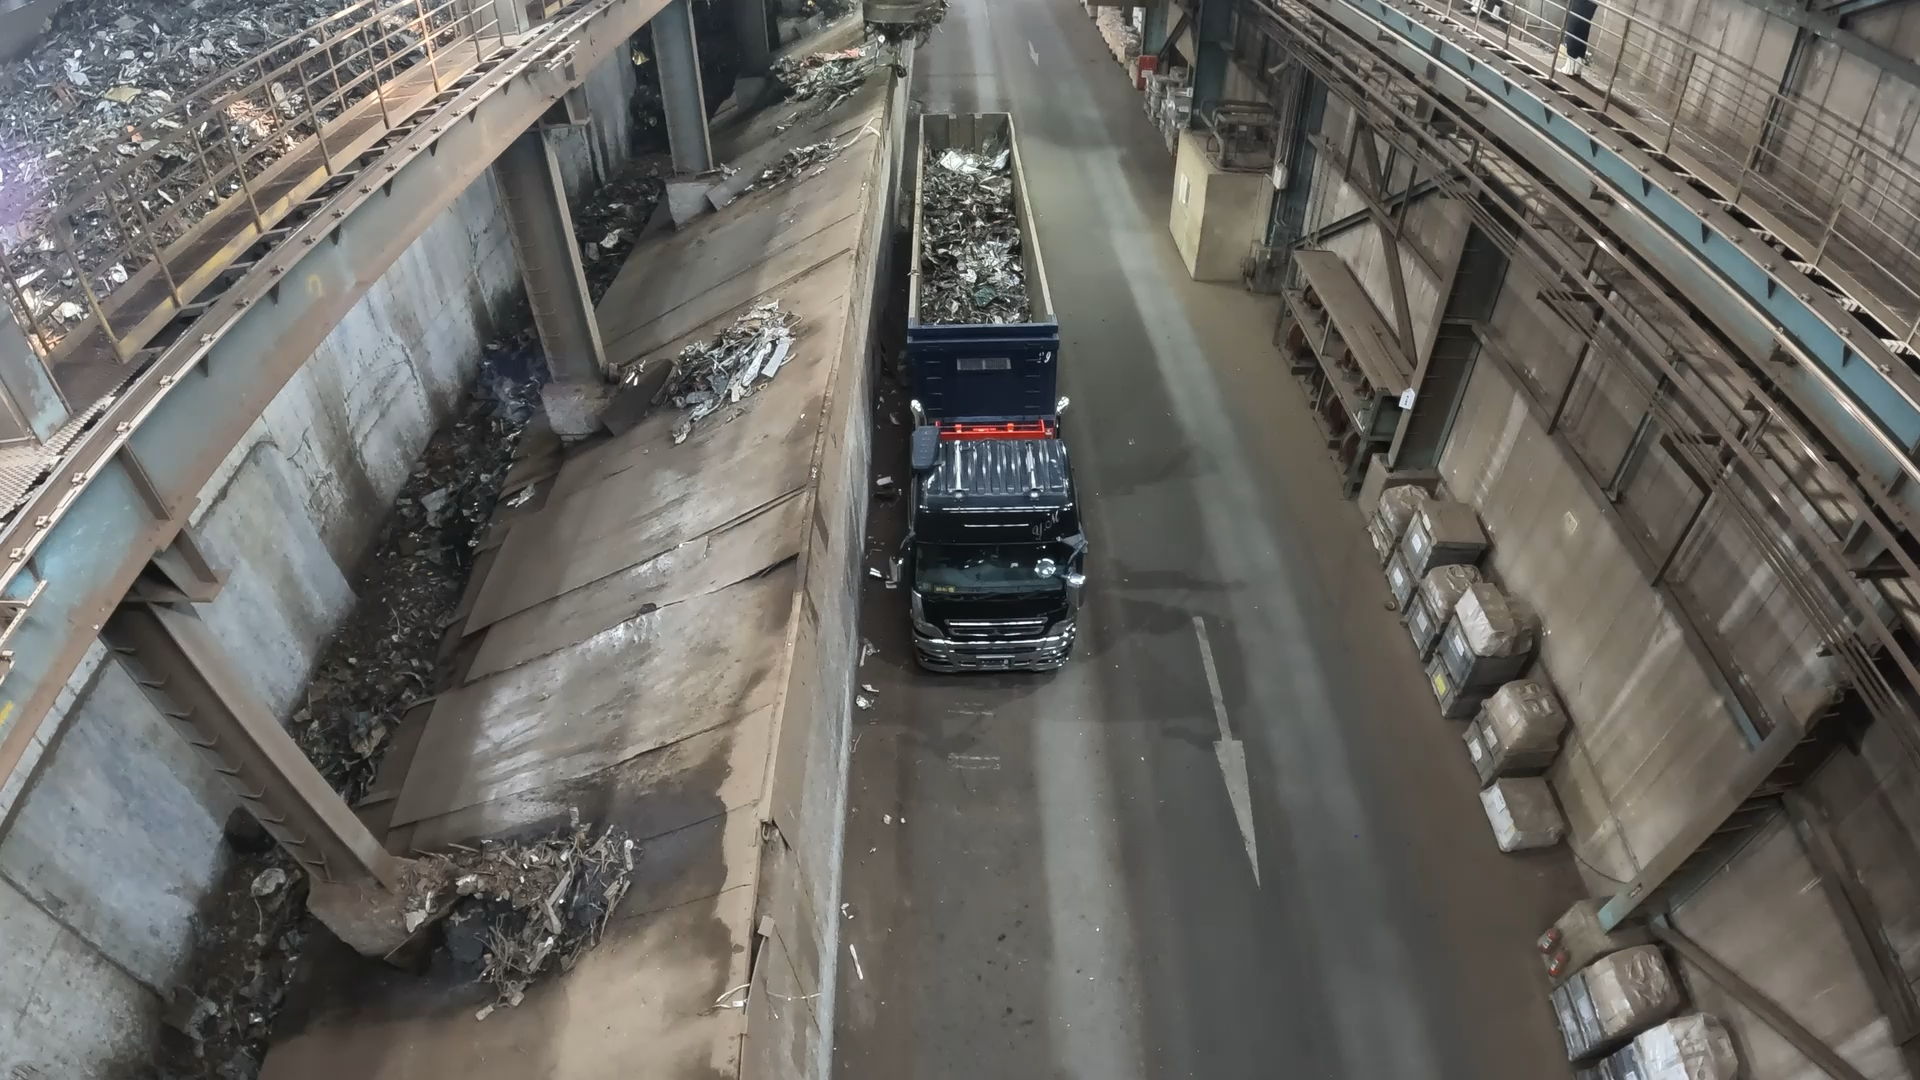truck: (910, 111, 1054, 326)
